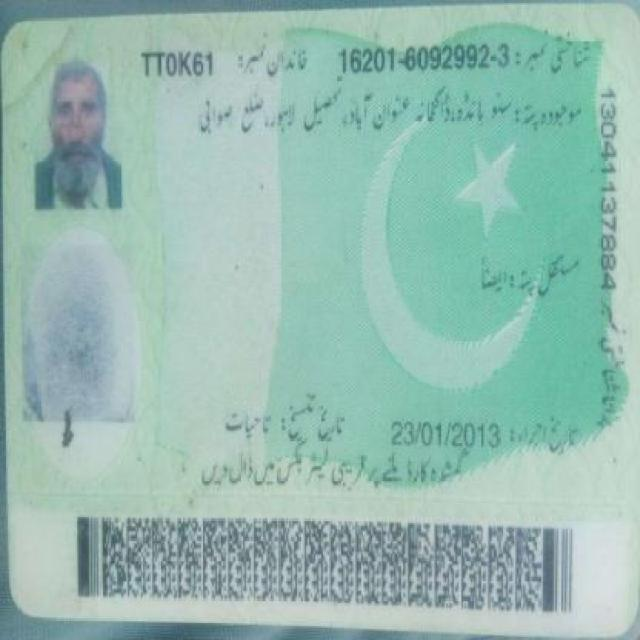Back: (4, 17, 630, 629)
